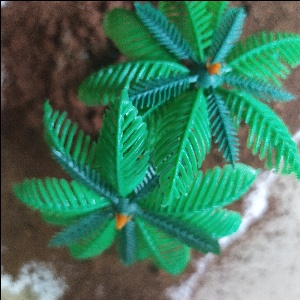plant: (18, 6, 293, 283)
